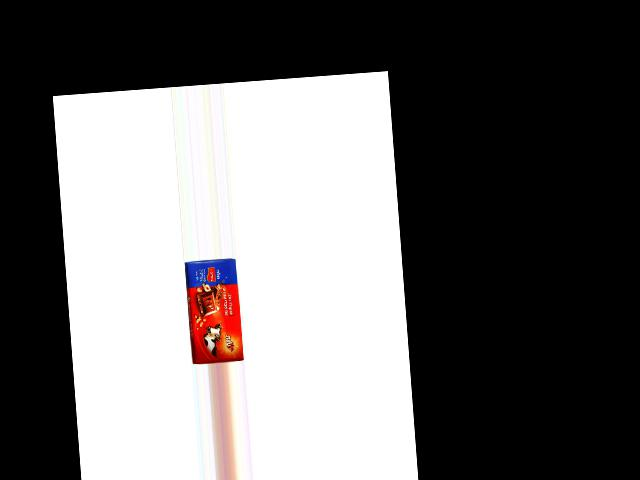chocolate: (184, 258, 243, 365)
